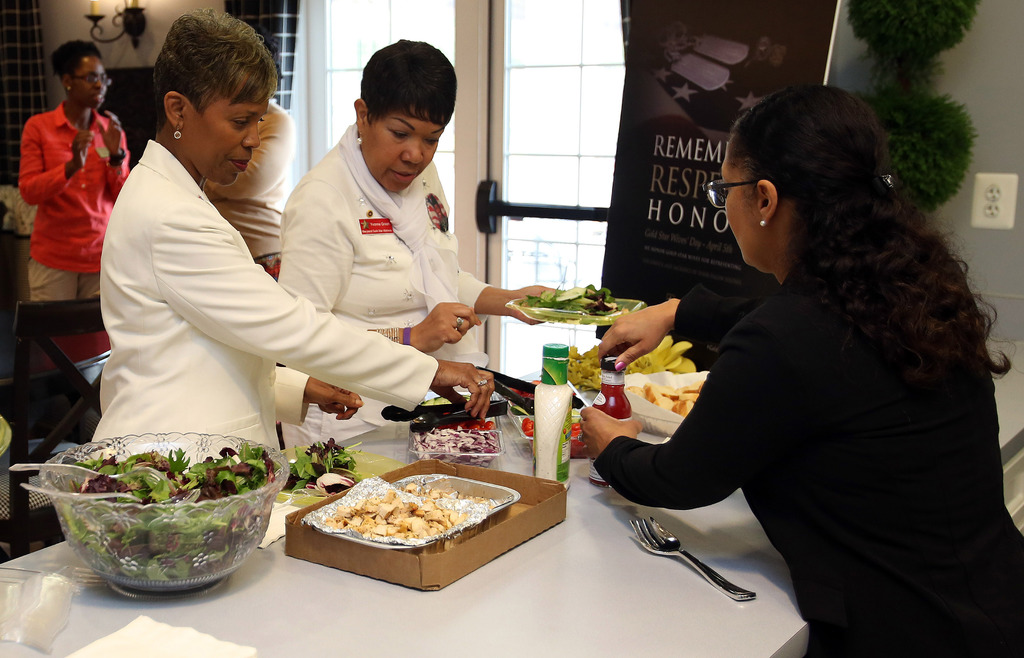salad: (54, 443, 294, 593), (276, 431, 370, 497), (518, 281, 620, 317)
